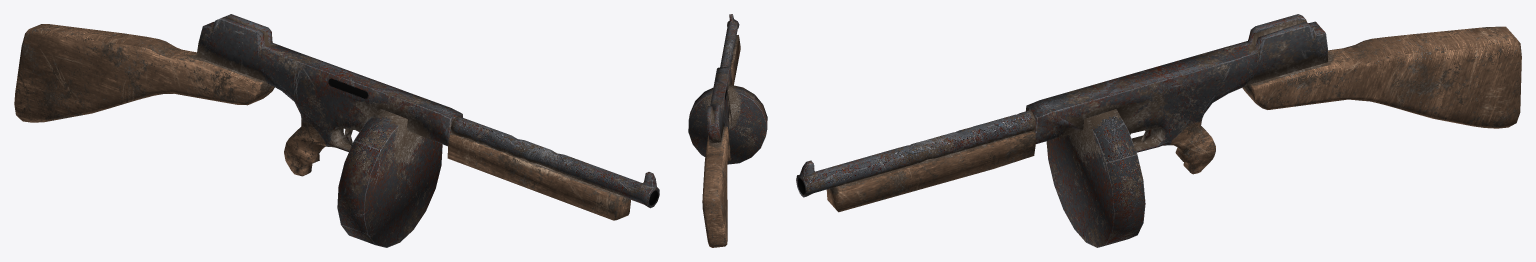
The model's file is Anim_disparar_ametralladora_objetos.0023.obj.
3 views of the same model, side by side, from view 1: azimuth 30°, elevation 25°; view 2: azimuth 150°, elevation 25°; view 3: azimuth 270°, elevation 25° (orthographic). The views are drawn at different scales.
Parts seen in each view (by area): view 1: Ametralladora1; view 2: Ametralladora1; view 3: Ametralladora1.
Part boxes in pixels (x1,y1,x2,y2): Ametralladora1: (14, 14, 659, 247); Ametralladora1: (688, 14, 767, 247); Ametralladora1: (796, 14, 1521, 247).
Size of the model in its own units: 3.02 by 1.54 by 5.46.
